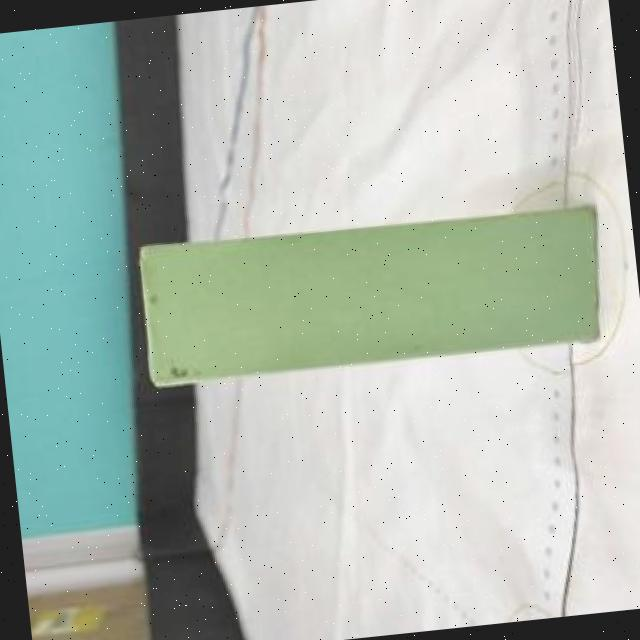greenbox: (137, 200, 614, 388)
